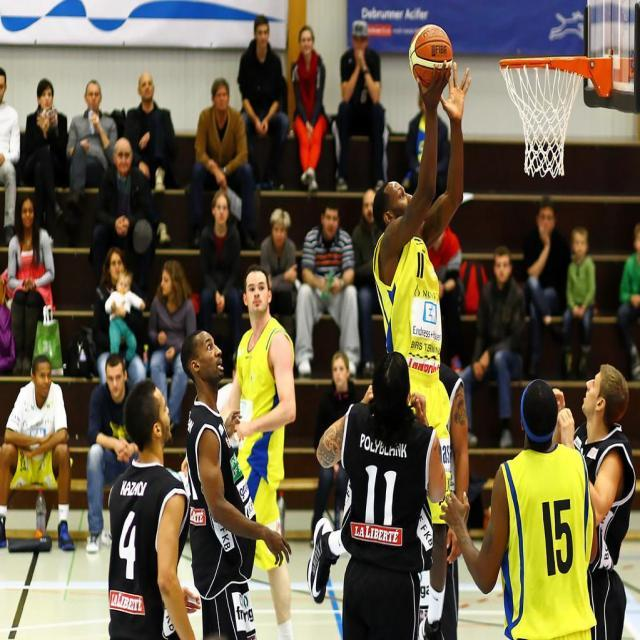rim: (409, 22, 453, 90)
